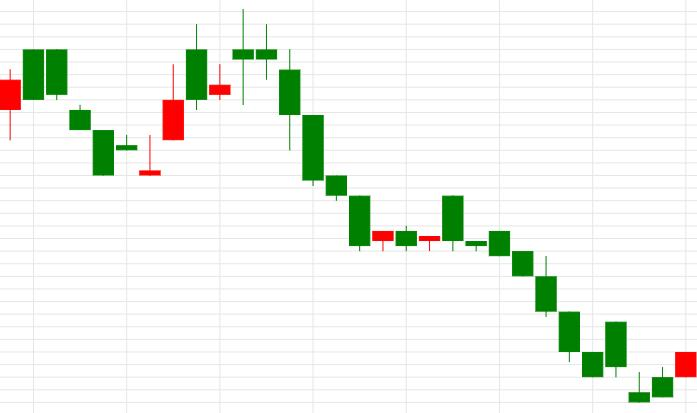three_black_crows_fall: (140, 9, 324, 186)
